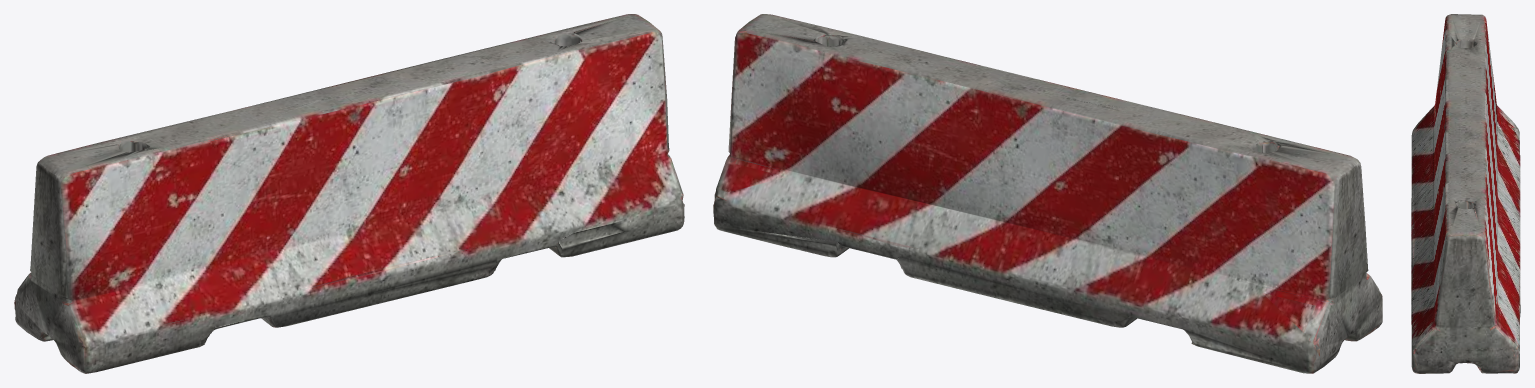
Rendered from barrier.glb.
3 views of the same model, side by side, from view 1: azimuth 30°, elevation 25°; view 2: azimuth 150°, elevation 25°; view 3: azimuth 270°, elevation 25° (orthographic). The views are drawn at different scales.
Size of the model in its own units: 0.9575 by 0.2813 by 0.1972.
1 material, 1 textured.
